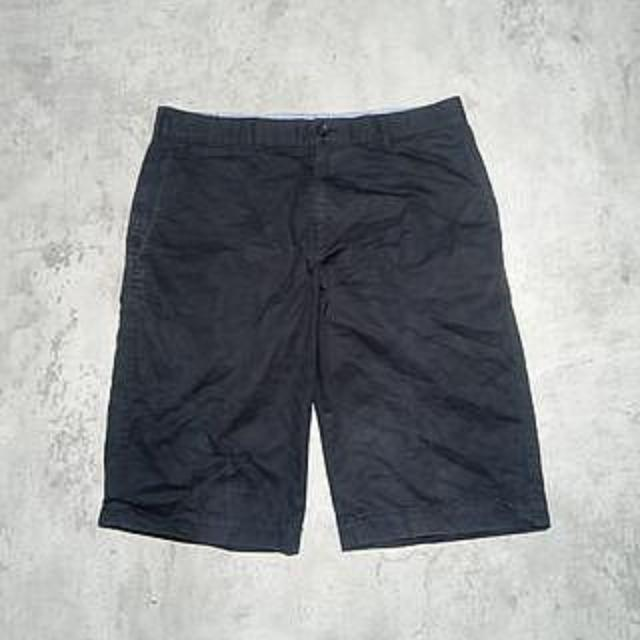SHORT: (84, 88, 583, 562)
